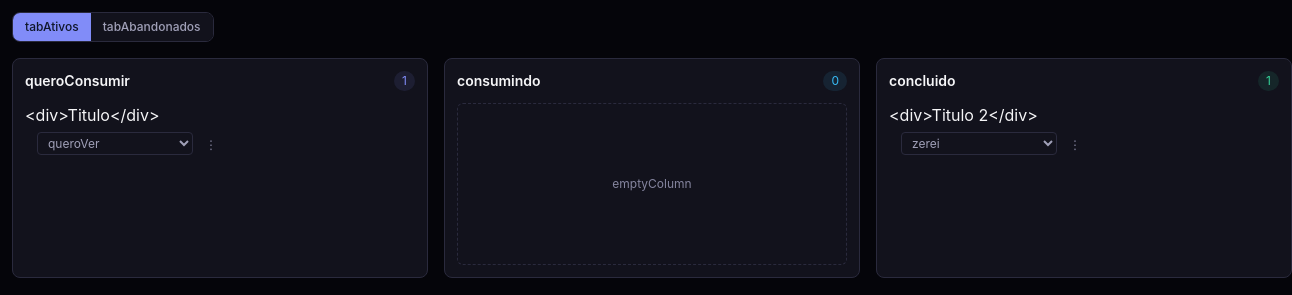
Test: T200 — Kanban reconciliado › Kanban renderiza 3 colunas, aba Abandonados e hidrata as interações
This screenshot has width=1292, height=295.
Expected: the element with test id "watchlist-column-WANT" is shown, [12, 58, 428, 278]
Expected: the element with test id "watchlist-column-WATCHING" is shown, [444, 58, 860, 278]
Click the button "tabAbandonados" at (152, 27), box [91, 13, 213, 41]
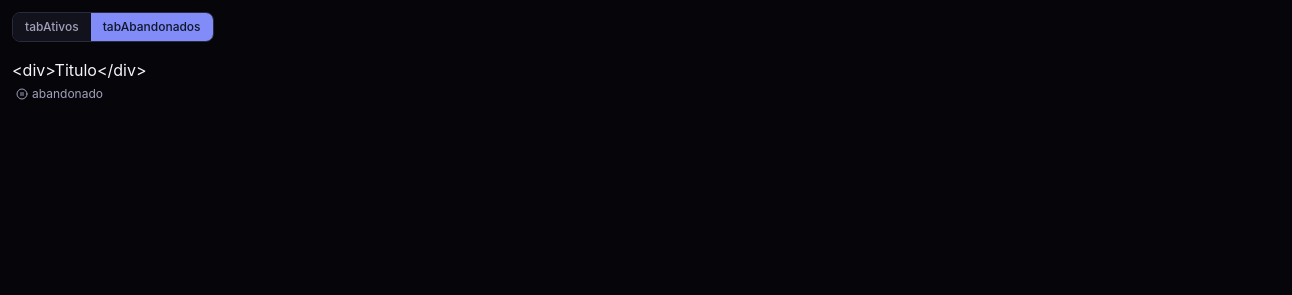
Expected: the element with test id "abandonado-card" is shown, [12, 58, 146, 102]
